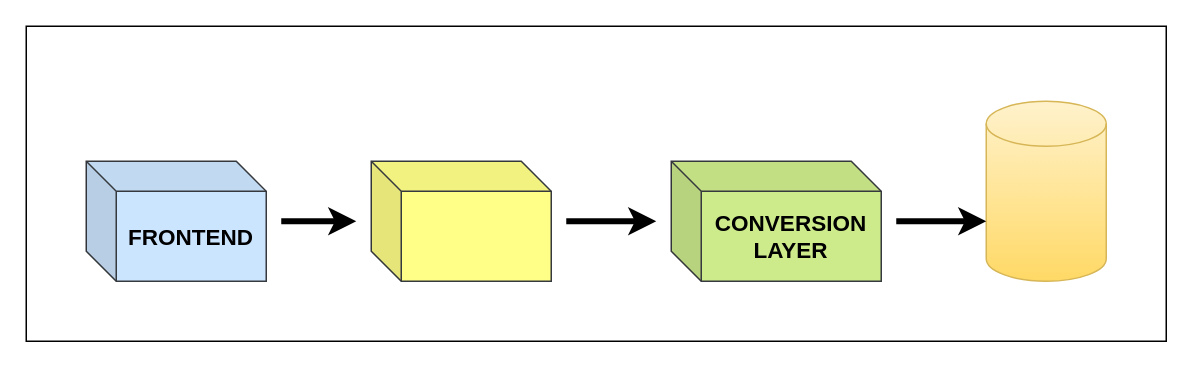
Image size: 1193x368. Some labels were removed from this diagram. Each missing label, with the centre of its shape:
ACS: point (1045, 190)
DATA LAYER: point (460, 220)
